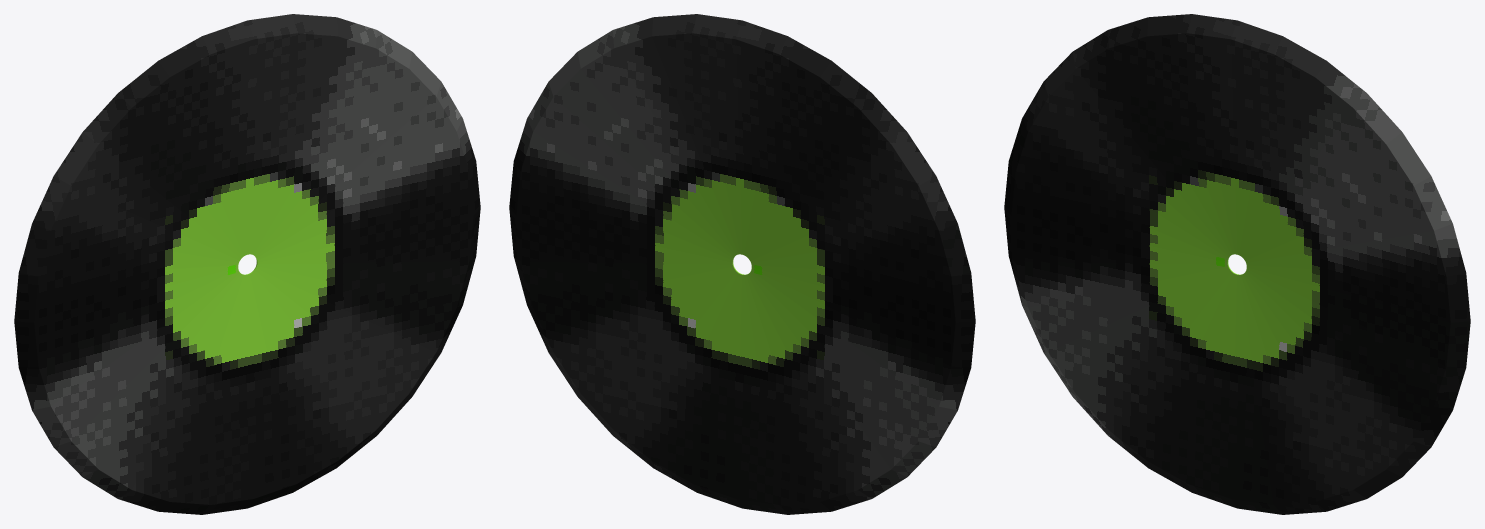
The model's file is Record_Green.glb.
3 renders of one model, left to right at view 1: azimuth 30°, elevation 25°; view 2: azimuth 150°, elevation 25°; view 3: azimuth 330°, elevation 25°, orthographic.
Parts seen in each view (by area): view 1: Cylinder.003; view 2: Cylinder.003; view 3: Cylinder.003.
Boxes of the visible parts, left/top/right/bottom form: Cylinder.003: left=14, top=14, right=480, bottom=514; Cylinder.003: left=509, top=14, right=975, bottom=514; Cylinder.003: left=1004, top=14, right=1470, bottom=514.
Size of the model in its own units: 2.12 by 2.12 by 0.1009.
1 material, 1 textured.
